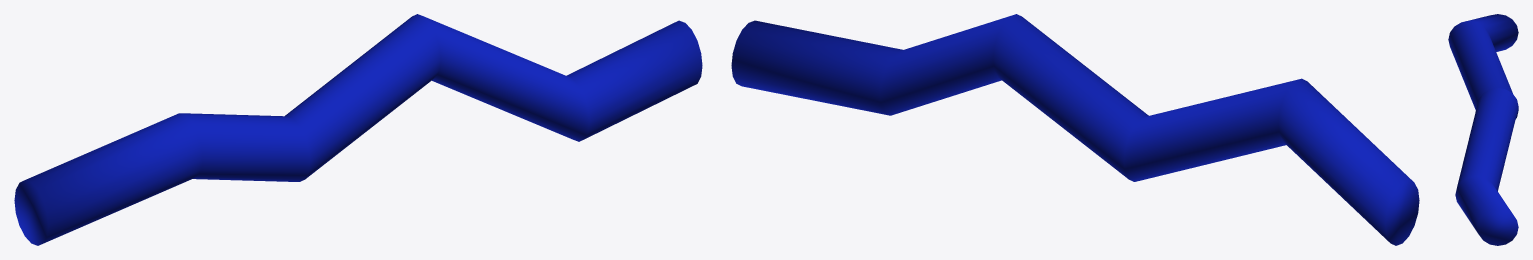
The model's file is cableBlue5.glb.
3 views of the same model, side by side, from view 1: azimuth 30°, elevation 25°; view 2: azimuth 150°, elevation 25°; view 3: azimuth 270°, elevation 25° (orthographic). The views are drawn at different scales.
Visible parts, largest first — view 1: cableBlue5; view 2: cableBlue5; view 3: cableBlue5.
Part boxes in pixels (<box>): cableBlue5: <box>14,14,702,245</box>; cableBlue5: <box>731,14,1419,245</box>; cableBlue5: <box>1448,14,1518,245</box>.
Bounding box in the file's own units: 2 × 0.4146 × 0.3048.
